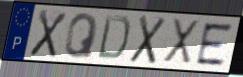D: (95, 13, 132, 62)
E: (195, 21, 234, 67)
Q: (63, 12, 100, 60)
X: (127, 14, 168, 66), (28, 8, 69, 59), (161, 17, 201, 67)
